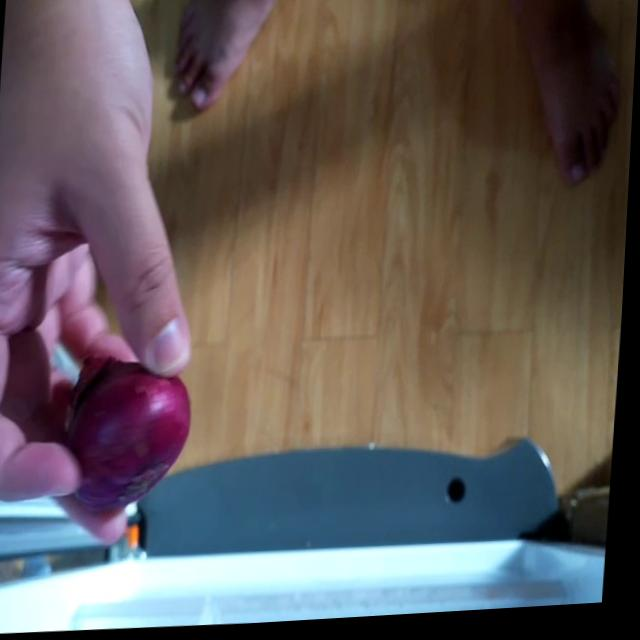onion: (62, 357, 204, 513)
